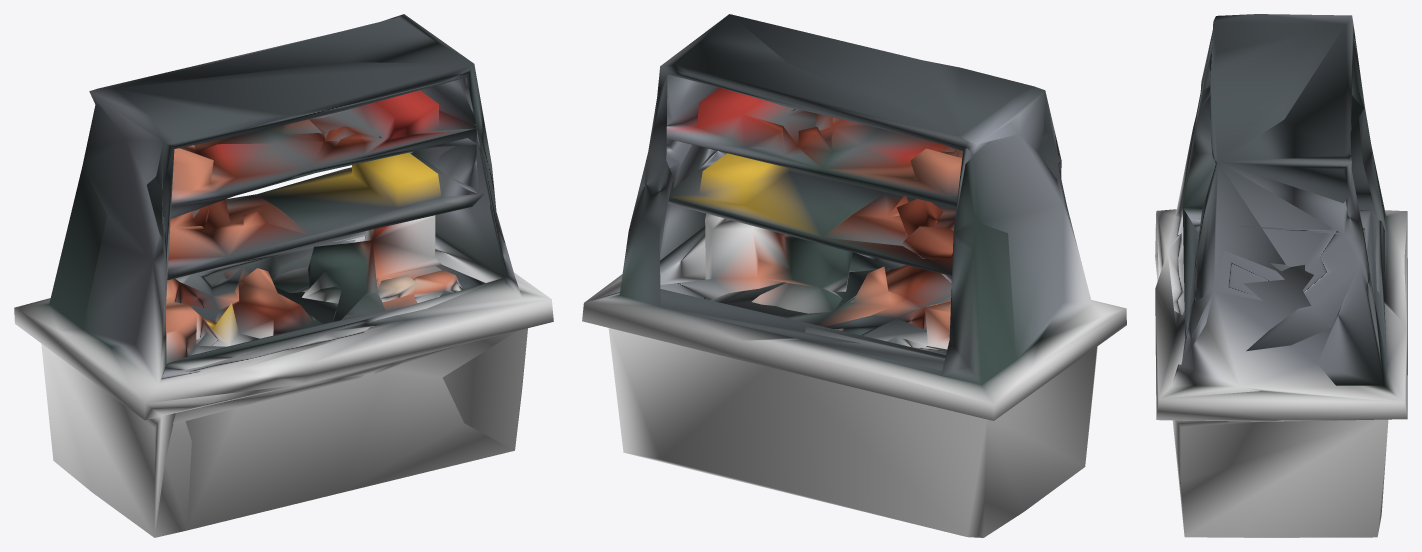
The model's file is gen3d-deli-counter-lod1.glb.
3 views of the same model, side by side, from view 1: azimuth 30°, elevation 25°; view 2: azimuth 150°, elevation 25°; view 3: azimuth 270°, elevation 25° (orthographic). The views are drawn at different scales.
Parts seen in each view (by area): view 1: part_0; view 2: part_0; view 3: part_0.
Part boxes in pixels (x1,y1,x2,y2): part_0: [14, 14, 553, 537]; part_0: [582, 14, 1126, 537]; part_0: [1155, 14, 1407, 537].
Size of the model in its own units: 1.11 by 0.9999 by 0.615.
